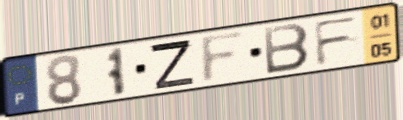1: (104, 44, 128, 99)
8: (43, 52, 84, 106)
B: (261, 21, 312, 77)
F: (198, 28, 249, 87), (311, 13, 362, 68)
Z: (146, 37, 197, 91)
